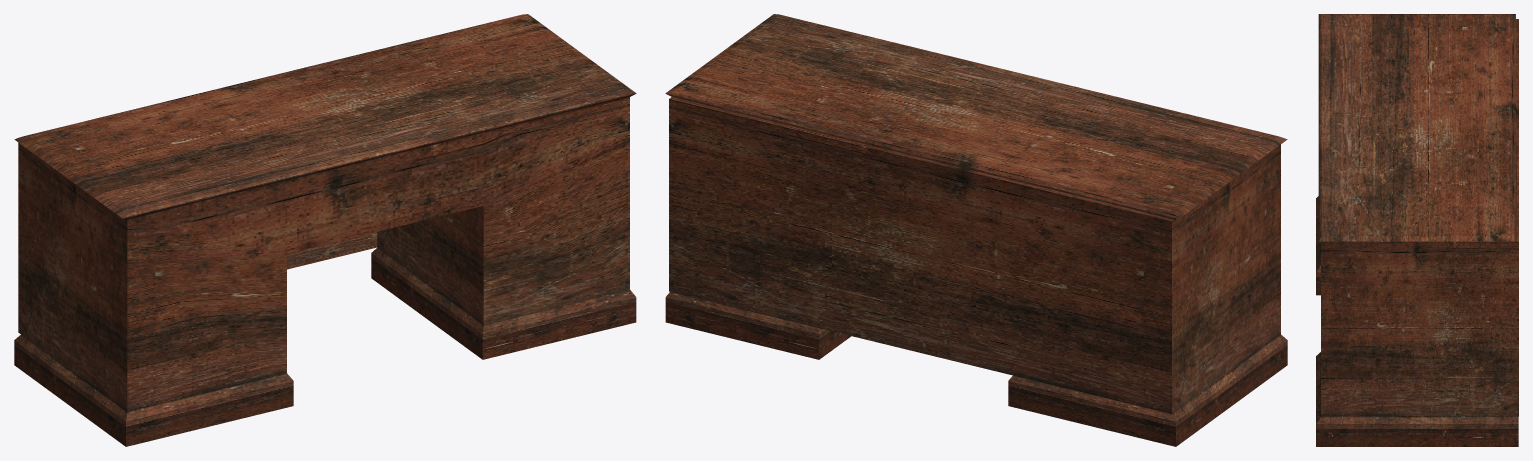
Rendered from desk.glb.
The picture shows the model from 3 angles, left to right: view 1: azimuth 30°, elevation 25°; view 2: azimuth 150°, elevation 25°; view 3: azimuth 270°, elevation 25°; orthographic projection. The views are drawn at different scales.
Parts seen in each view (by area): view 1: Cube; view 2: Cube; view 3: Cube.
Part boxes in pixels (x1,y1,x2,y2): Cube: (14, 14, 636, 446); Cube: (665, 14, 1287, 446); Cube: (1316, 14, 1518, 446).
Size of the model in its own units: 12.06 by 5.15 by 4.54.
1 material, 1 textured.
